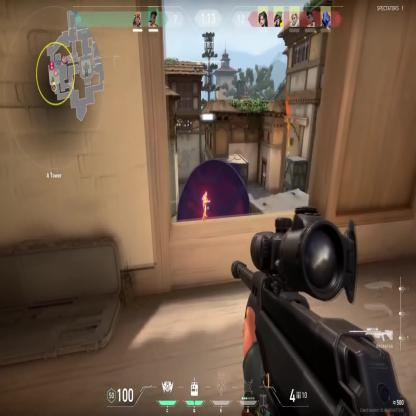enemy: (202, 192, 209, 221)
enemy_head: (205, 191, 207, 197)
